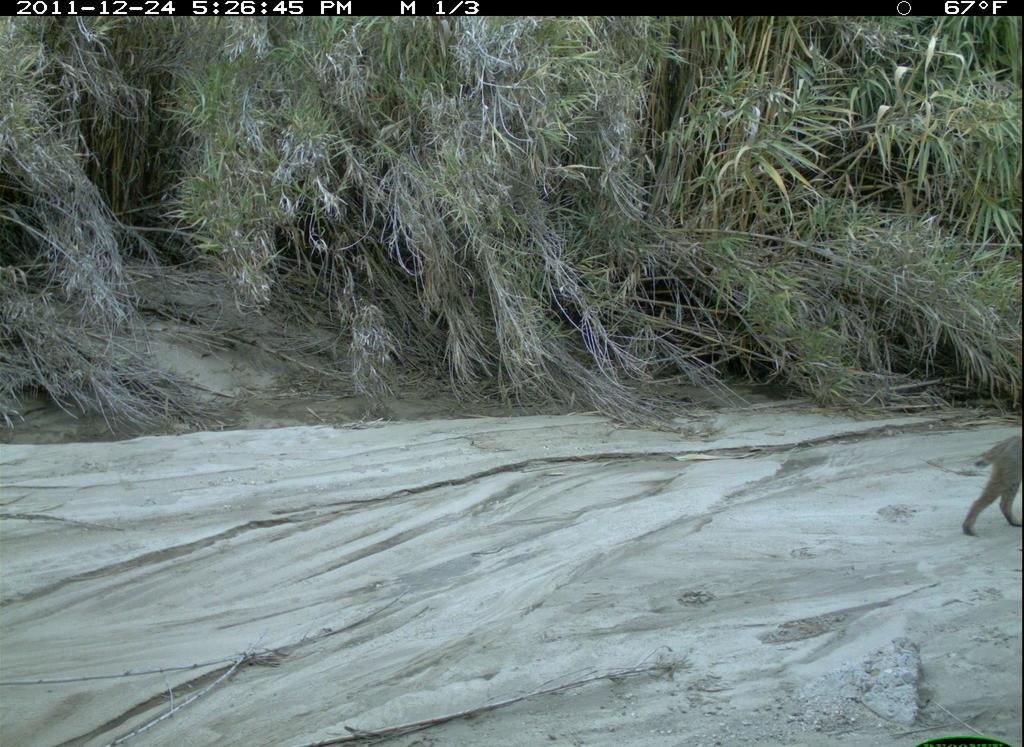bobcat: (959, 432, 1019, 543)
